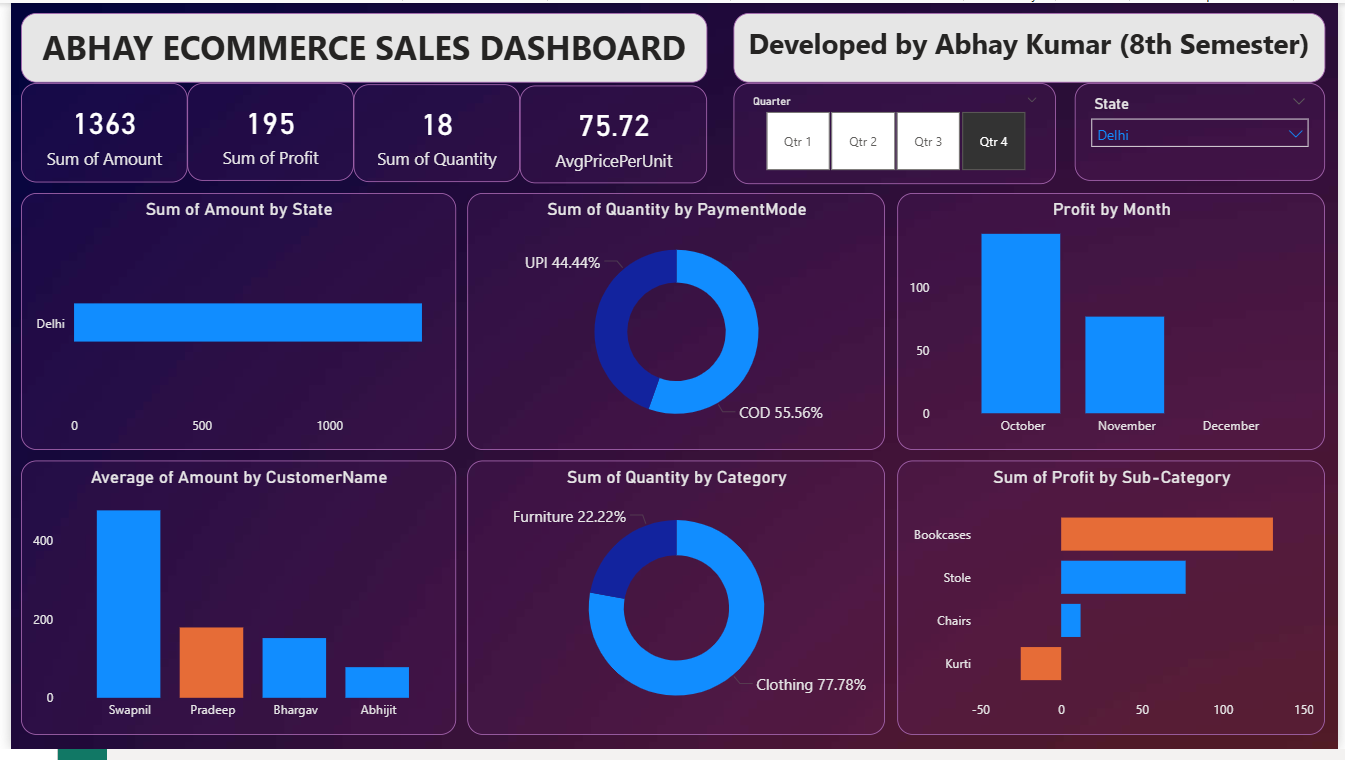

Layout of this report page (visuals, bound fields, positions):
{"tool":"powerbi","page":{"name":"Page 1","canvas":[1280,720],"ordinal":0},"visuals":[{"type":"columnChart","title":"Profit by Month","fields":{"Category":["Orders.Order Date.Variation.Date Hierarchy.Month"],"Y":["Details.Profit"]},"box":[854.9,183.9,413,248.4],"z":0},{"type":"barChart","fields":{"Category":["Details.Sub-Category"],"Y":["Details.Profit"]},"box":[854.9,441.9,413,264.8],"z":1000},{"type":"donutChart","fields":{"Category":["Details.Category"],"Y":["Details.Quantity"]},"box":[440.5,441.9,403.4,264.8],"z":2000},{"type":"donutChart","fields":{"Y":["Details.Quantity"],"Category":["Details.PaymentMode"]},"box":[440.5,183.9,403.4,248.4],"z":3000},{"type":"card","fields":{"Values":["Details.Amount"]},"box":[9.6,76.8,160.5,96.1],"z":4000},{"type":"card","fields":{"Values":["Details.Profit"]},"box":[170.2,76.8,160.5,94.7],"z":5000},{"type":"card","fields":{"Values":["Details.Quantity"]},"box":[330.7,78.2,160.5,94.7],"z":6000},{"type":"card","fields":{"Values":["Details.AvgPricePerUnit"]},"box":[491.3,79.6,181.1,94.7],"z":7000},{"type":"barChart","fields":{"Category":["Orders.State"],"Y":["Details.Amount"]},"box":[9.6,183.9,419.9,248.4],"z":8000},{"type":"columnChart","fields":{"Category":["Orders.CustomerName"],"Y":["Details.Amount"]},"box":[9.6,441.9,419.9,264.8],"z":9000},{"type":"textbox","box":[9.6,9.6,662.8,67.2],"z":10000},{"type":"slicer","fields":{"Values":["Orders.Order Date.Variation.Date Hierarchy.Quarter"]},"box":[697.1,76.8,311.5,97.4],"z":11000},{"type":"slicer","fields":{"Values":["Orders.State"]},"box":[1026.4,76.8,241.5,94.7],"z":12000},{"type":"textbox","box":[697.1,9.6,570.8,67.2],"z":13000}]}

Visuals, with their boxes in screenshot pixels (x1, y1, x2, y2), scaled from the page's 1280x720 canvas onto the 1345x760 screenshot:
"Profit by Month" columnChart: [898, 194, 1332, 456]
barChart - Details.Sub-Category x Details.Profit: [898, 466, 1332, 746]
donutChart - Details.Category x Details.Quantity: [463, 466, 887, 746]
donutChart - Details.Quantity x Details.PaymentMode: [463, 194, 887, 456]
card - Details.Amount: [10, 81, 179, 183]
card - Details.Profit: [179, 81, 347, 181]
card - Details.Quantity: [347, 83, 516, 183]
card - Details.AvgPricePerUnit: [516, 84, 707, 184]
barChart - Orders.State x Details.Amount: [10, 194, 451, 456]
columnChart - Orders.CustomerName x Details.Amount: [10, 466, 451, 746]
textbox: [10, 10, 707, 81]
slicer - Orders.Order Date.Variation.Date Hierarchy.Quarter: [732, 81, 1060, 184]
slicer - Orders.State: [1079, 81, 1332, 181]
textbox: [732, 10, 1332, 81]
